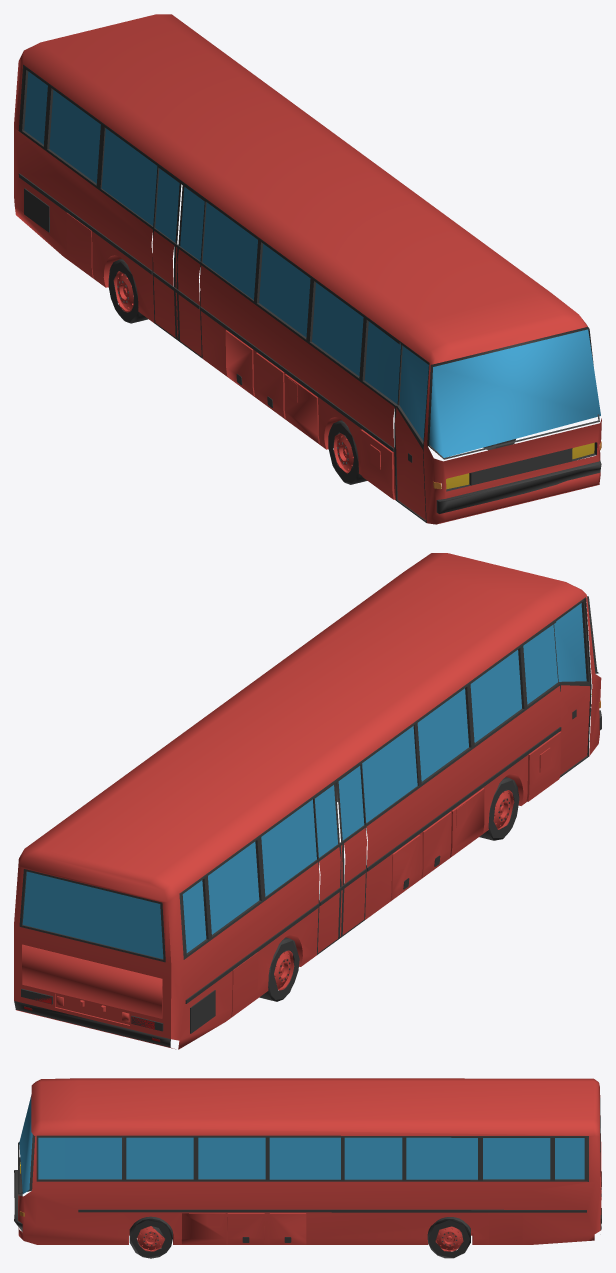
The model's file is bus_lod1.glb.
3 views of the same model, one above another, from view 1: azimuth 30°, elevation 25°; view 2: azimuth 150°, elevation 25°; view 3: azimuth 270°, elevation 25° (orthographic). The views are drawn at different scales.
Visible parts, largest first — view 1: veg; view 2: veg; view 3: veg.
Boxes of the visible parts, <box> form: veg: <box>14,14,601,524</box>; veg: <box>14,553,601,1049</box>; veg: <box>14,1078,601,1258</box>.
Bounding box in the file's own units: 2.5 × 2.74 × 11.
